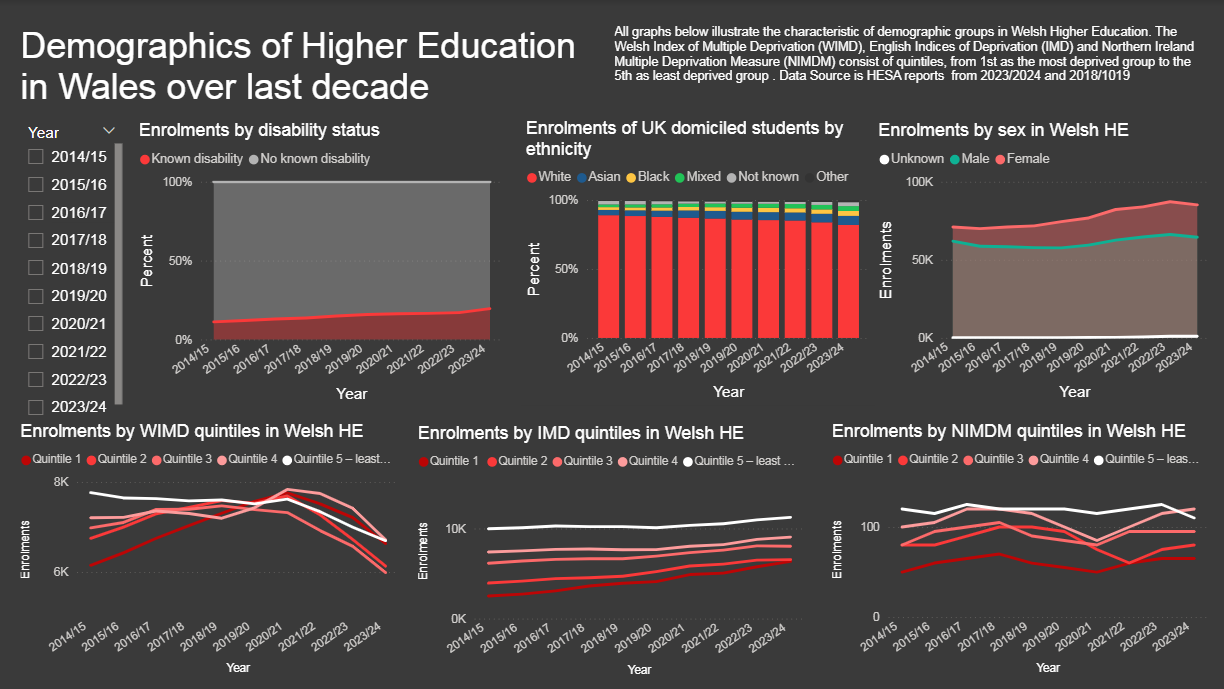

What the dashboard file says about the page in this screenshot:
{"tool":"powerbi","page":{"name":"Page 3","canvas":[1280,720],"ordinal":2},"visuals":[{"type":"textbox","box":[20.7,20.7,618.7,105],"z":0},{"type":"hundredPercentStackedColumnChart","title":"Enrolments of UK domiciled students by ethnicity","fields":{"Category":["HE enrolments.Year"],"Y":["Sum(HE enrolments.White)","Sum(HE enrolments.Asian)","Sum(HE enrolments.Black)","Sum(HE enrolments.Mixed)","Sum(HE enrolments.Not known)","Sum(HE enrolments.Other)"]},"box":[546.7,123.3,368.3,298.3],"z":1000},{"type":"lineChart","title":"Enrolments by WIMD quintiles in Welsh HE","fields":{"Category":["HE enrolments.Year"],"Y":["Sum(HE enrolments.Quintile 1 – most deprived (WIMD))","Sum(HE enrolments.Quintile 2 (WIMD))","Sum(HE enrolments.Quintile 3 (WIMD))","Sum(HE enrolments.Quintile 4 (WIMD))","Sum(HE enrolments.Quintile 5 – least deprived (WIMD))"]},"box":[20.7,439,404,268.8],"z":2000},{"type":"hundredPercentStackedAreaChart","title":"Enrolments by disability status","fields":{"Category":["HE enrolments.Year"],"Y":["Sum(HE enrolments.Known disability)","Sum(HE enrolments.No known disability)"]},"box":[143.3,125,388.3,298.3],"z":3000},{"type":"areaChart","title":"Enrolments by sex in Welsh HE","fields":{"Category":["HE enrolments.Year"],"Y":["Sum(HE enrolments.Unknown)","Sum(HE enrolments.Male)","Sum(HE enrolments.Female)"]},"box":[915,125,353.3,296.7],"z":4000},{"type":"slicer","fields":{"Values":["HE enrolments.Year"]},"box":[20.7,124.1,116.1,314.9],"z":5000},{"type":"textbox","box":[639.4,20.7,626.7,92.3],"z":6000},{"type":"lineChart","title":"Enrolments by IMD quintiles in Welsh HE","fields":{"Category":["HE enrolments.Year"],"Y":["Sum(HE enrolments.Quintile 1 – most deprived (IMD))","Sum(HE enrolments.Quintile 2 (IMD))","Sum(HE enrolments.Quintile 3 (IMD))","Sum(HE enrolments.Quintile 4 (IMD))","Sum(HE enrolments.Quintile 5 – least deprived (IMD))"]},"box":[434.2,440.6,412,268.8],"z":8000},{"type":"lineChart","title":"Enrolments by NIMDM quintiles in Welsh HE","fields":{"Category":["HE enrolments.Year"],"Y":["Sum(HE enrolments.Quintile 1 – most deprived (NIMDM))","Sum(HE enrolments.Quintile 2 (NIMDM))","Sum(HE enrolments.Quintile 3 (NIMDM))","Sum(HE enrolments.Quintile 4 (NIMDM))","Sum(HE enrolments.Quintile 5 – least deprived (NIMDM))"]},"box":[865.3,439,400.8,268.8],"z":9000}]}

Visuals, with their boxes in screenshot pixels (x1, y1, x2, y2), scaled from the page's 1280x720 canvas onto the 1224x689 screenshot:
textbox: rect(20, 20, 611, 120)
"Enrolments of UK domiciled students by ethnicity" hundredPercentStackedColumnChart: rect(523, 118, 875, 403)
"Enrolments by WIMD quintiles in Welsh HE" lineChart: rect(20, 420, 406, 677)
"Enrolments by disability status" hundredPercentStackedAreaChart: rect(137, 120, 508, 405)
"Enrolments by sex in Welsh HE" areaChart: rect(875, 120, 1213, 404)
slicer - HE enrolments.Year: rect(20, 119, 131, 420)
textbox: rect(611, 20, 1211, 108)
"Enrolments by IMD quintiles in Welsh HE" lineChart: rect(415, 422, 809, 679)
"Enrolments by NIMDM quintiles in Welsh HE" lineChart: rect(827, 420, 1211, 677)
